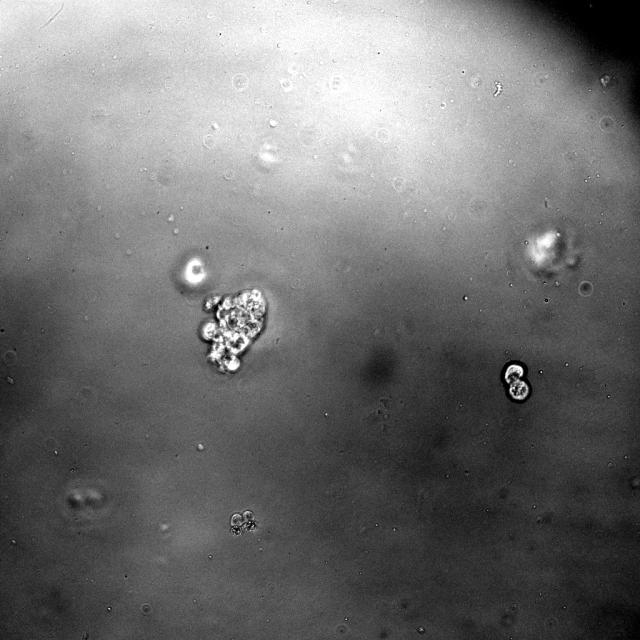organoid: (199, 289, 266, 373), (501, 361, 532, 403), (230, 510, 257, 535)
